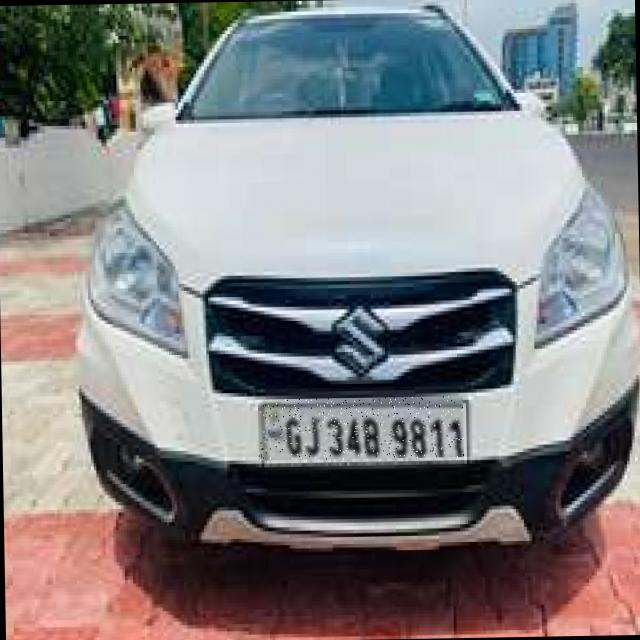Plate: (259, 397, 465, 462)
